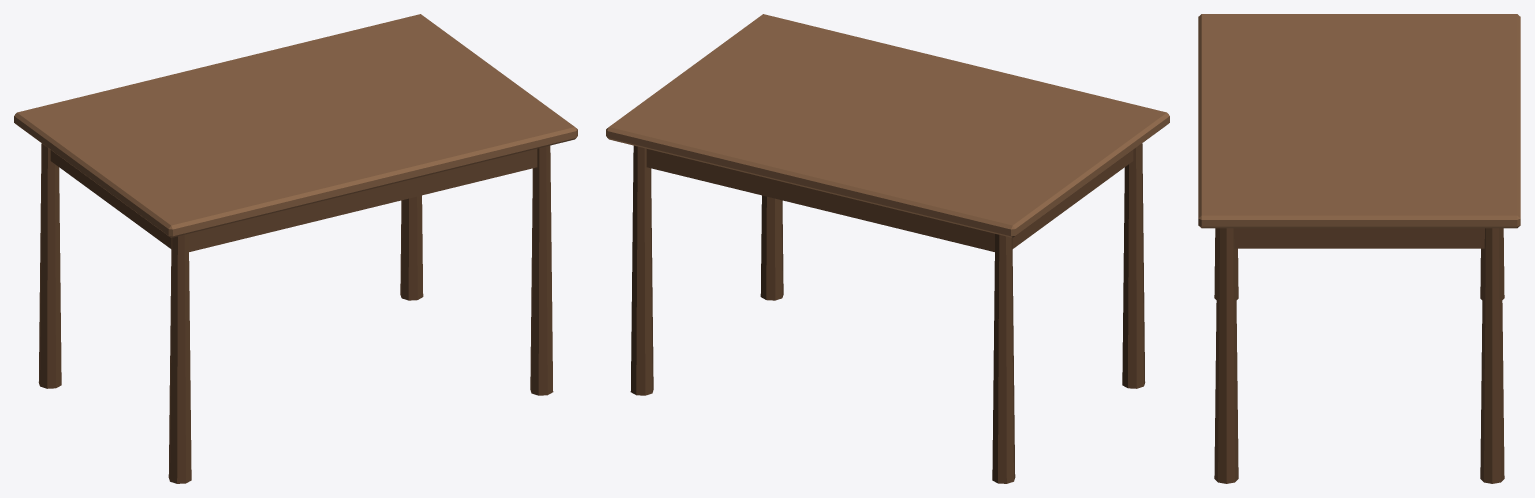
The model's file is kitchen_table.glb.
3 views of the same model, side by side, from view 1: azimuth 30°, elevation 25°; view 2: azimuth 150°, elevation 25°; view 3: azimuth 270°, elevation 25° (orthographic). The views are drawn at different scales.
Visible parts, largest first — view 1: kitchen_table; view 2: kitchen_table; view 3: kitchen_table.
Boxes of the visible parts, bbox=[...] form: kitchen_table: bbox=[14, 14, 577, 483]; kitchen_table: bbox=[606, 14, 1169, 483]; kitchen_table: bbox=[1198, 14, 1520, 483].
Size of the model in its own units: 1.2 by 0.75 by 0.8.
